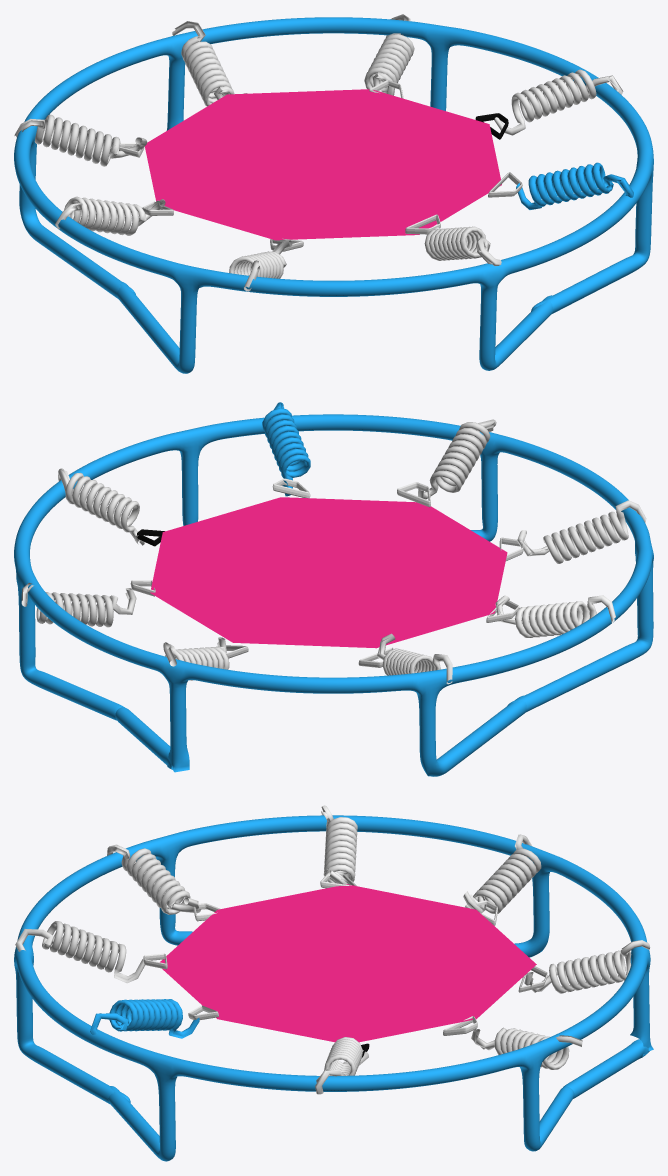
File: trampolin.fbx
The picture shows the model from 3 angles, top to bottom: view 1: azimuth 30°, elevation 25°; view 2: azimuth 150°, elevation 25°; view 3: azimuth 270°, elevation 25°; orthographic projection.
Visible parts, largest first — view 1: Circle.002; view 2: Circle.002; view 3: Circle.002.
Part boxes in pixels (<box>): Circle.002: <box>14,14,653,373</box>; Circle.002: <box>14,402,653,776</box>; Circle.002: <box>14,805,653,1161</box>.
Size of the model in its own units: 624 by 143 by 623.
14 materials, 2 textured.
